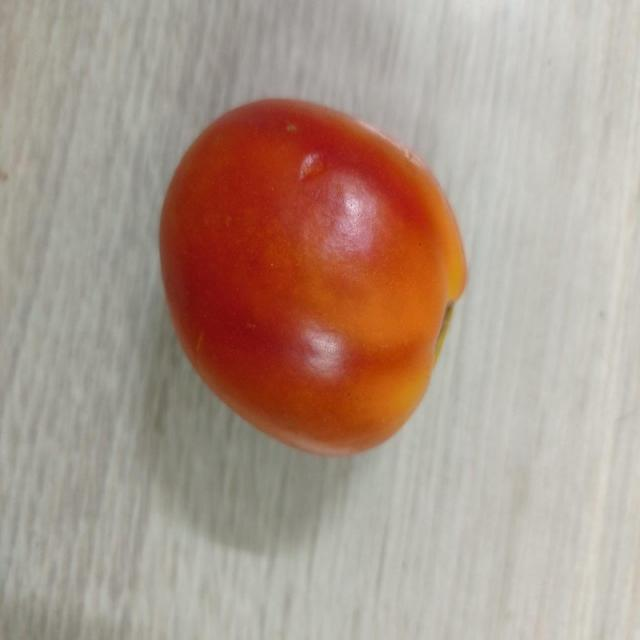Tomato: (154, 92, 474, 460)
